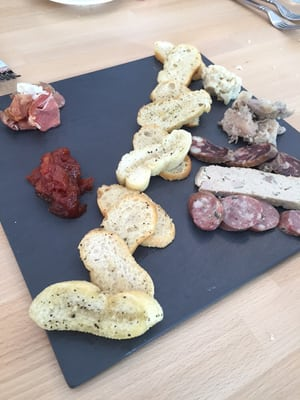curry: (1, 0, 300, 345)
